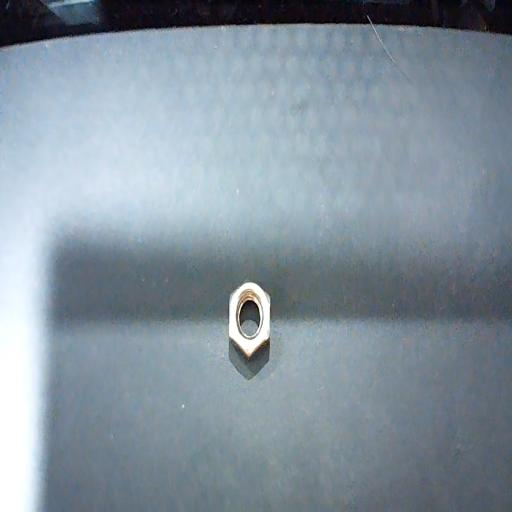nut: (228, 280, 271, 360)
